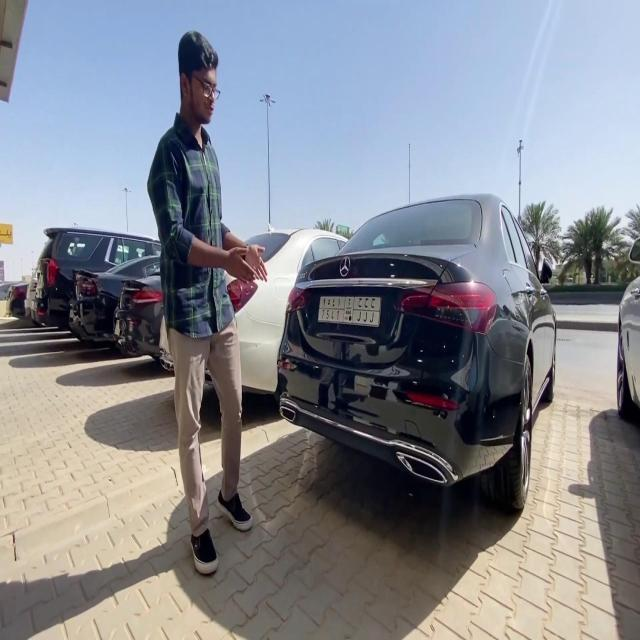license_plate: (314, 286, 382, 330)
